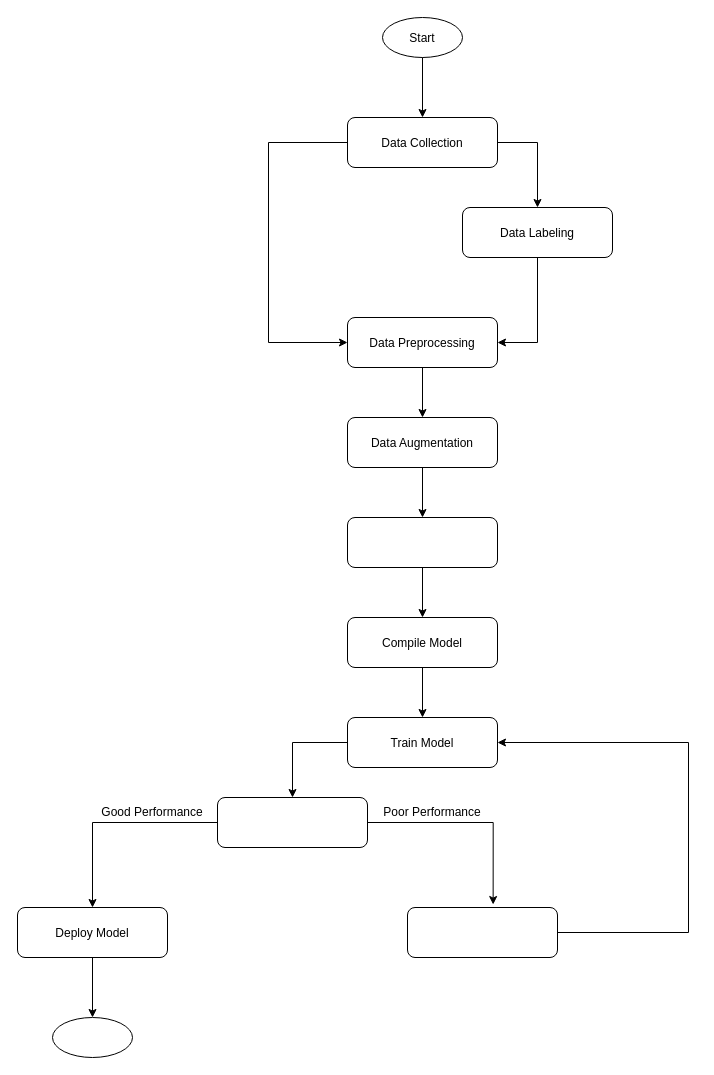
The diagram is 714 pixels wide and 1075 high, and some of its shapes have lost their labels. Here are the shapes that lost their labels. From the top down, the box of each, then its label:
(346, 516, 498, 568): Define Model Architecture
(216, 796, 368, 848): Evaluate Model
(406, 906, 558, 958): Hyperparameter Tuning
(52, 1016, 132, 1058): End
